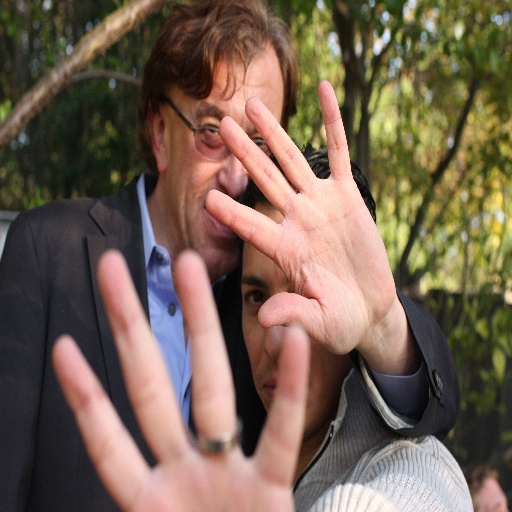hand: (49, 246, 312, 511), (204, 76, 397, 356)
